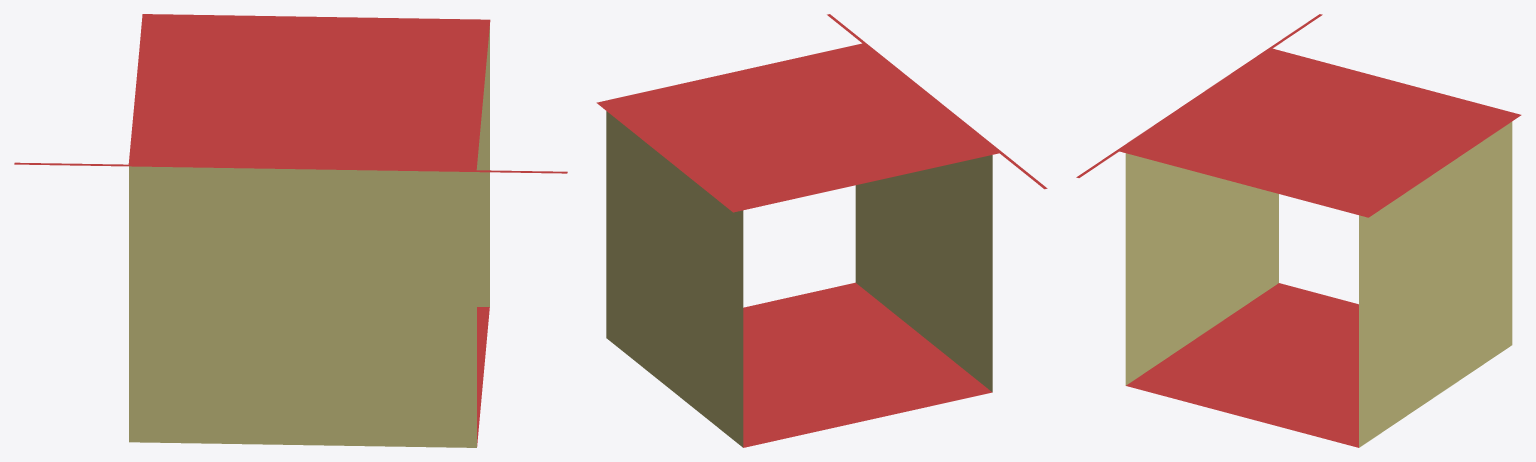
3 views of the same model, side by side, from view 1: azimuth 30°, elevation 25°; view 2: azimuth 150°, elevation 25°; view 3: azimuth 270°, elevation 25° (orthographic). The views are drawn at different scales.
Bounding box in the file's own units: 10.73 × 9.92 × 5.71.
